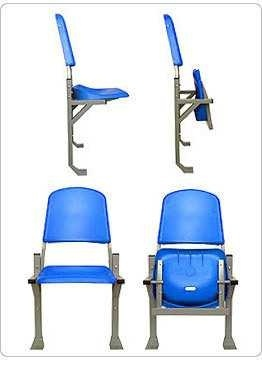obstacle: (28, 187, 123, 348), (143, 189, 237, 349), (55, 14, 127, 175)
